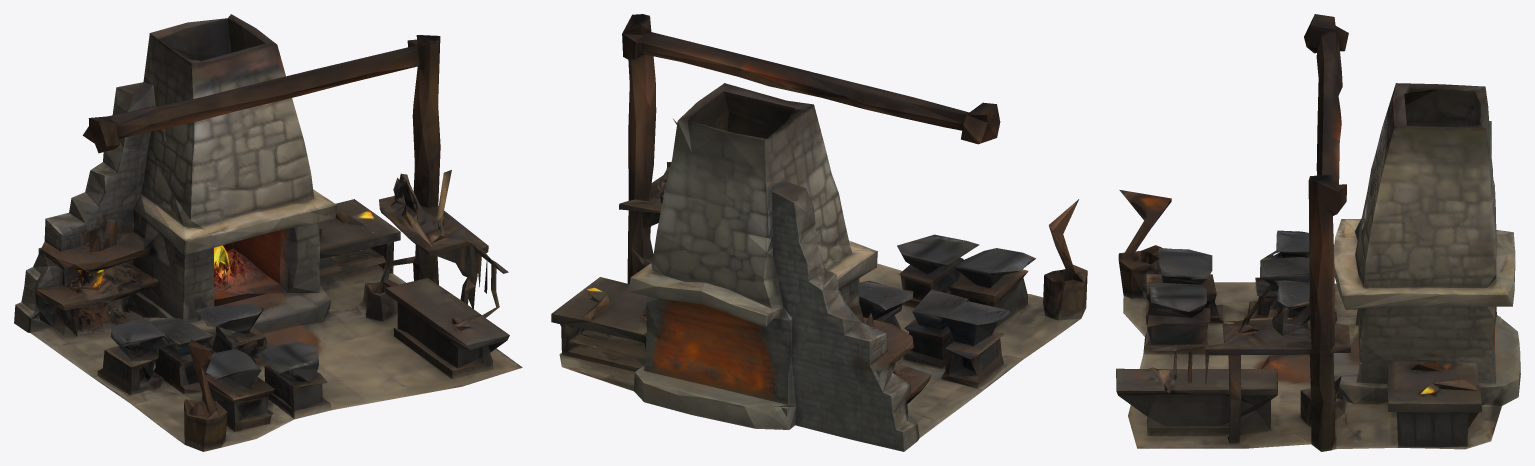
File: Medieval_Blacksmith_F_0408225011_texture.fbx
The picture shows the model from 3 angles, left to right: view 1: azimuth 30°, elevation 25°; view 2: azimuth 150°, elevation 25°; view 3: azimuth 270°, elevation 25°; orthographic projection. The views are drawn at different scales.
Visible parts, largest first — view 1: temp; view 2: temp; view 3: temp.
Boxes of the visible parts, <box> form: temp: <box>14,14,522,451</box>; temp: <box>551,14,1087,451</box>; temp: <box>1116,14,1520,451</box>.
Size of the model in its own units: 200 by 148 by 200.
Materials: 1 (1 with a texture image).
